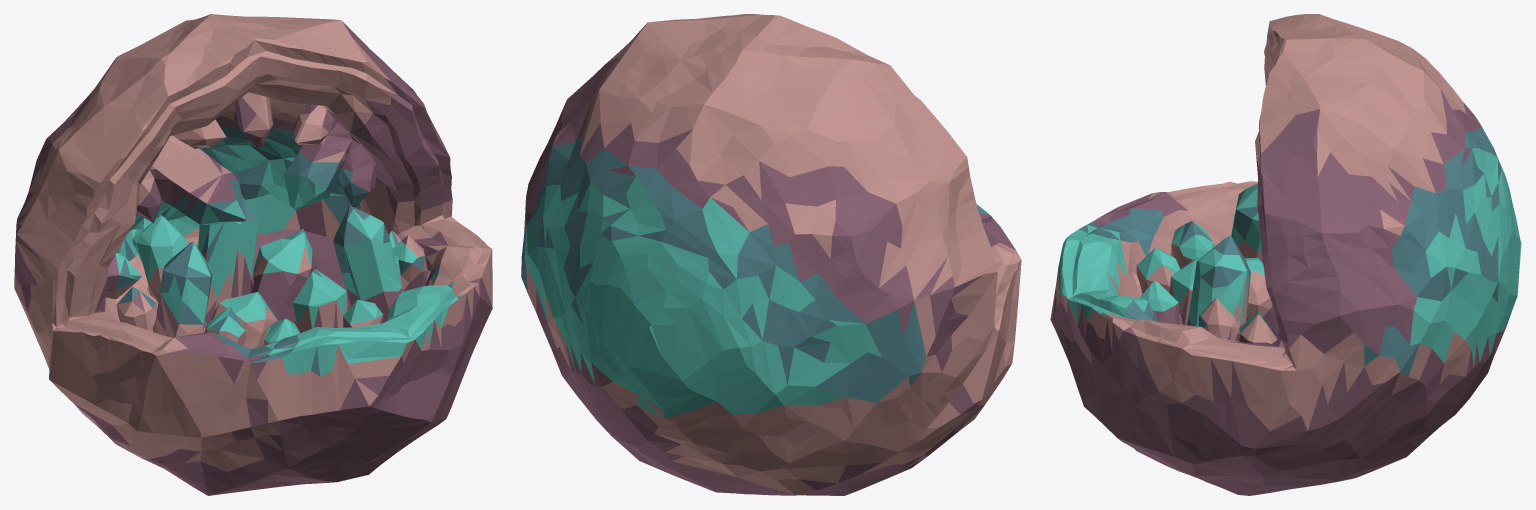
File: geode.glb
3 views of the same model, side by side, from view 1: azimuth 30°, elevation 25°; view 2: azimuth 150°, elevation 25°; view 3: azimuth 270°, elevation 25° (orthographic). The views are drawn at different scales.
Parts seen in each view (by area): view 1: geometry_0; view 2: geometry_0; view 3: geometry_0.
Boxes of the visible parts, box(x1,y1,x2,y2) form: geometry_0: box(14, 14, 492, 495); geometry_0: box(521, 14, 1021, 495); geometry_0: box(1050, 14, 1521, 495).
Bounding box in the file's own units: 1.98 × 1.98 × 1.99.
